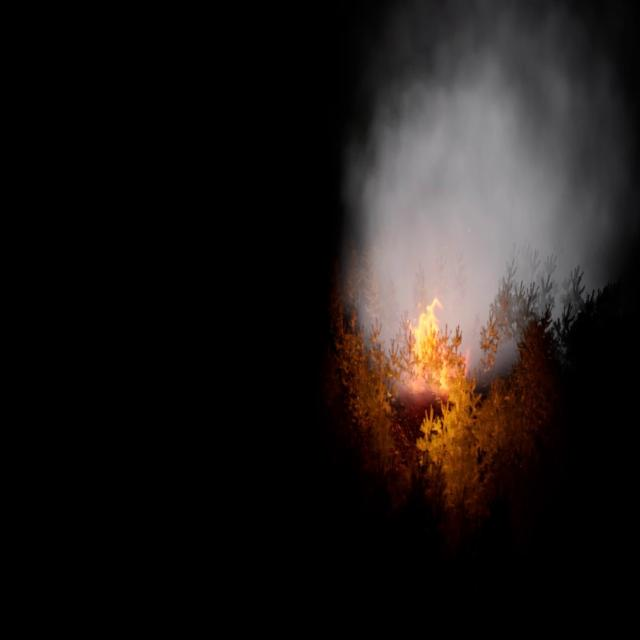fire: (406, 297, 464, 394)
smoke: (346, 0, 640, 396)
